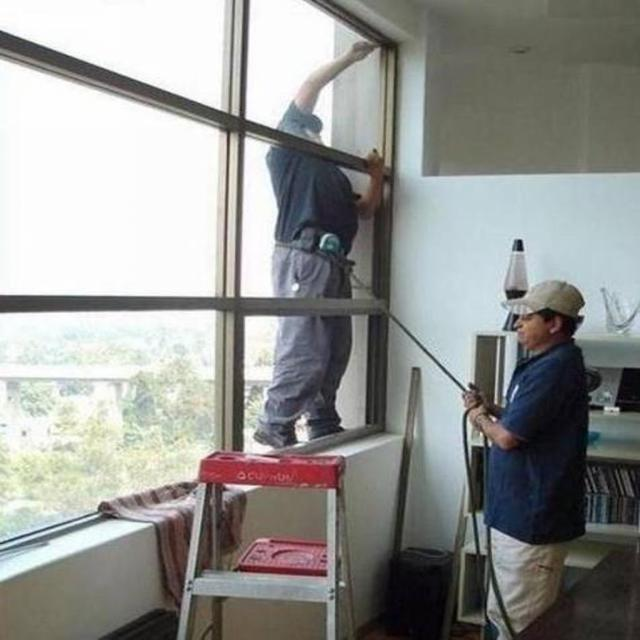nomask: (515, 293, 555, 344)
